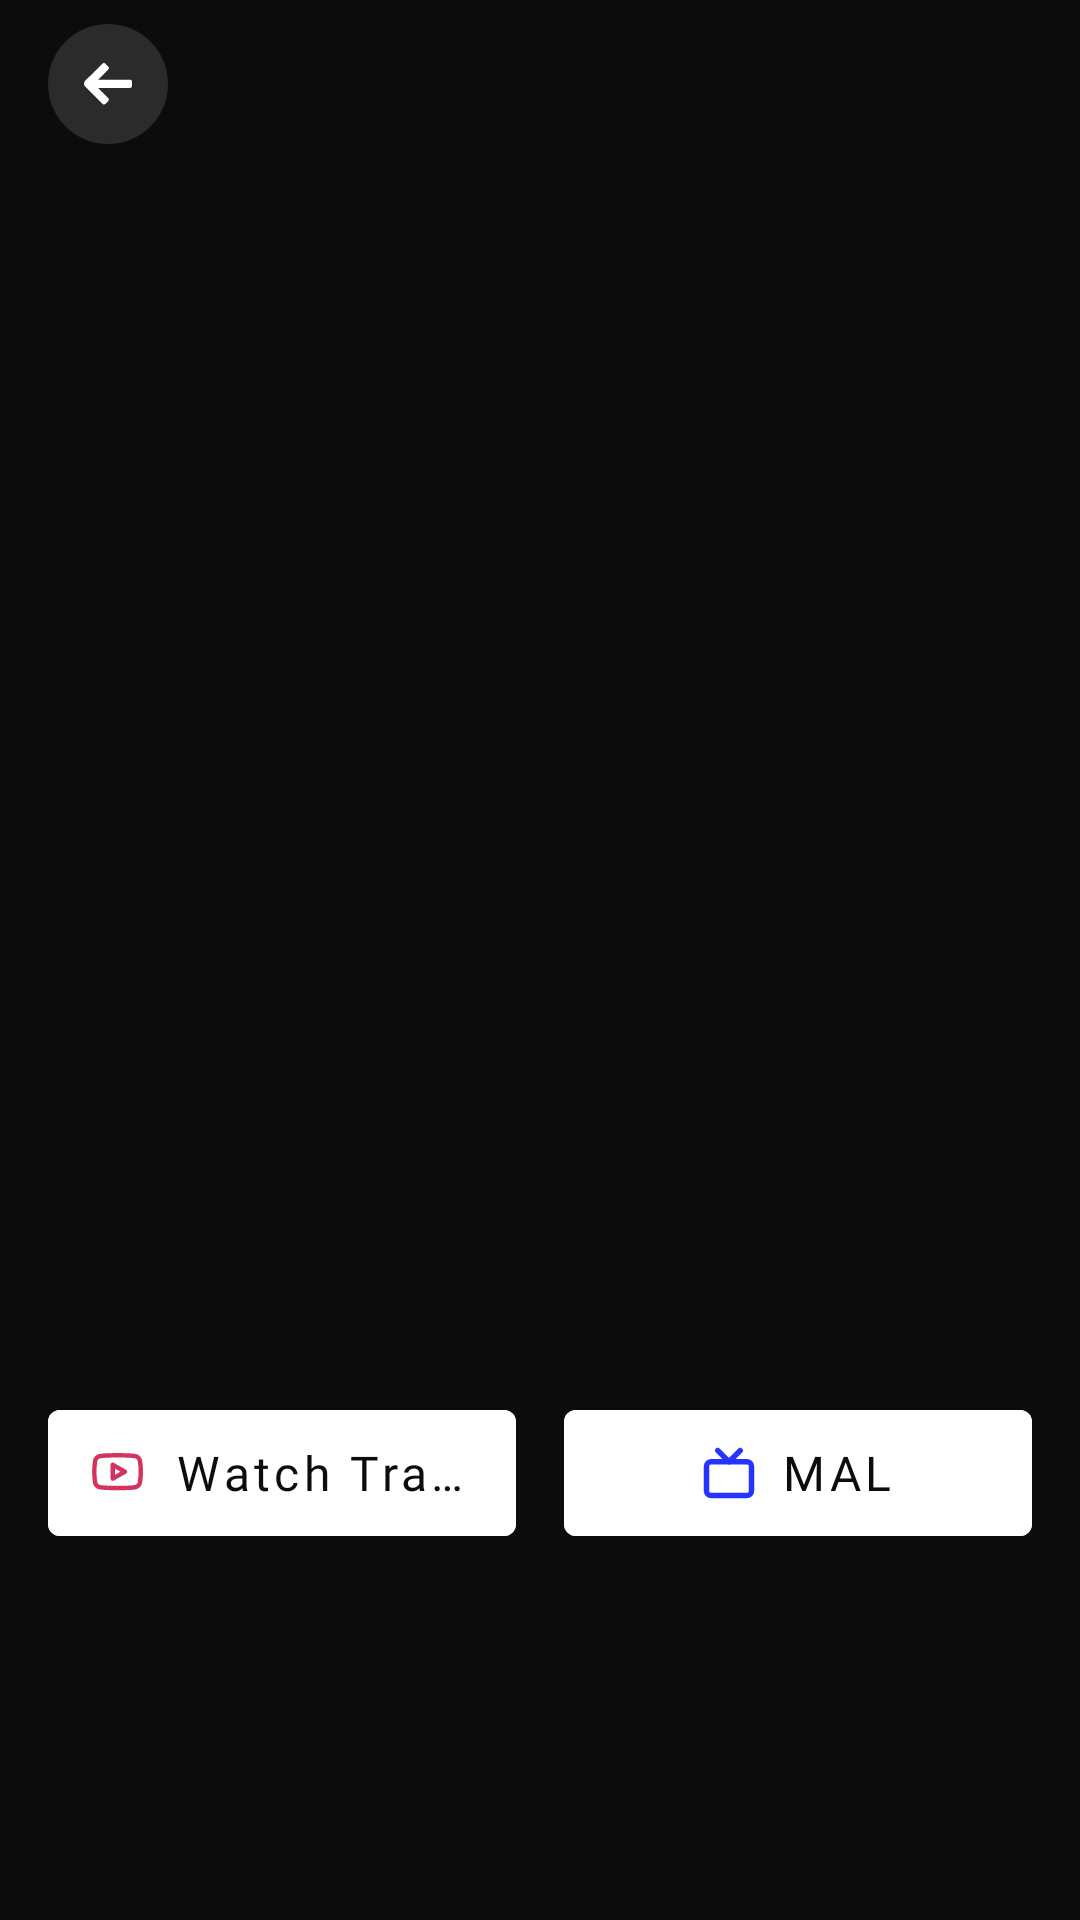

Icons on this 1080 × 1920 Android screen, each with the point to tap as point (x, y):
Back: point (108, 84)
